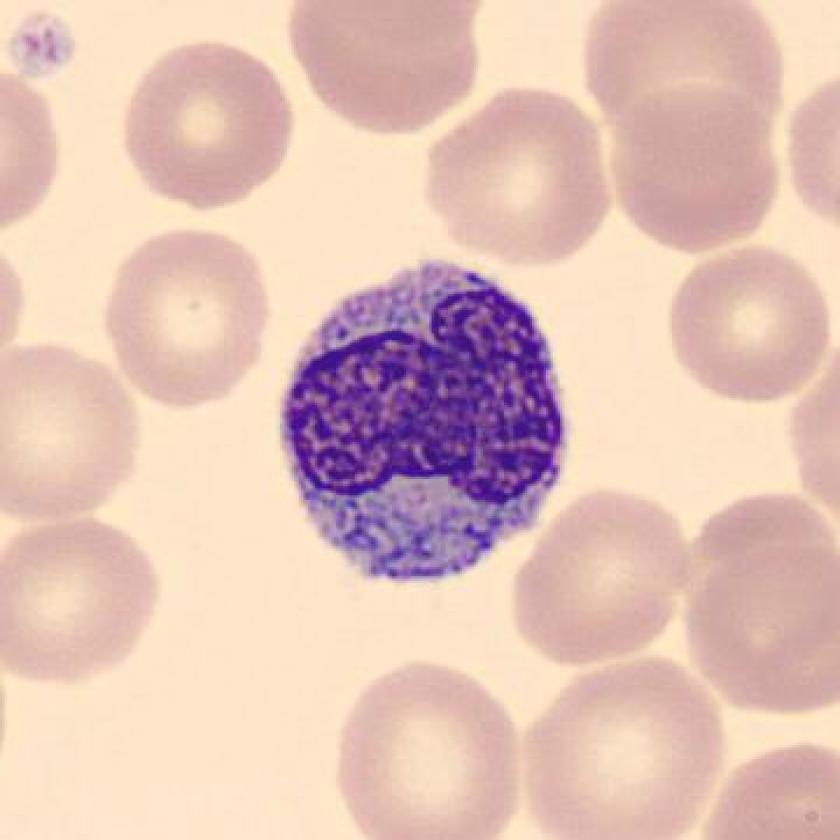monocyte: (258, 235, 601, 621)
